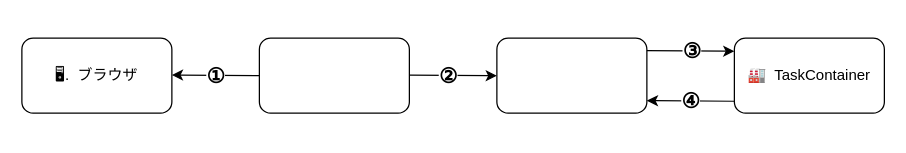
Some shapes in this 906 by 153 pixel diagram are drawn without their labels. Each missing label, with the centre of its shape:
"🌍 App" goes at point (571, 75).
"🍪 CookieManager" goes at point (333, 75).
